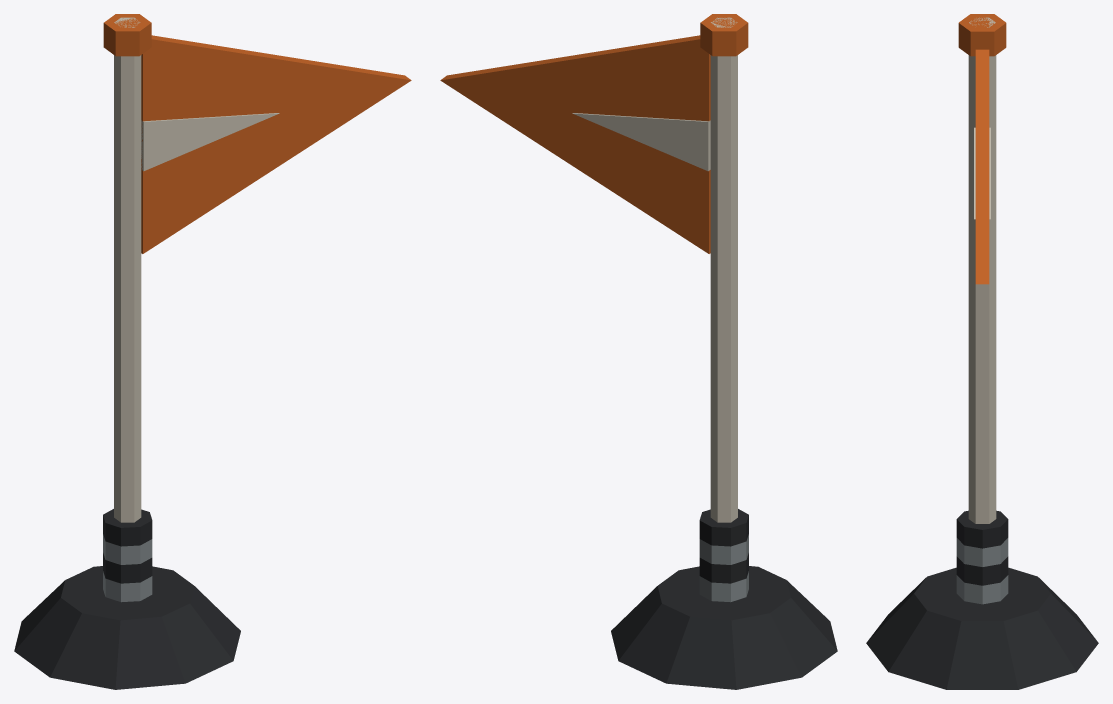
File: poi_ring_flag.glb
The picture shows the model from 3 angles, left to right: view 1: azimuth 30°, elevation 25°; view 2: azimuth 150°, elevation 25°; view 3: azimuth 270°, elevation 25°; orthographic projection.
Parts seen in each view (by area): view 1: RingFlag; view 2: RingFlag; view 3: RingFlag.
Boxes of the visible parts, x1,y1,x2,y2 form: RingFlag: (14,14,411,689); RingFlag: (440,14,837,689); RingFlag: (866,14,1098,689).
Size of the model in its own units: 1.27 by 2 by 0.68.
